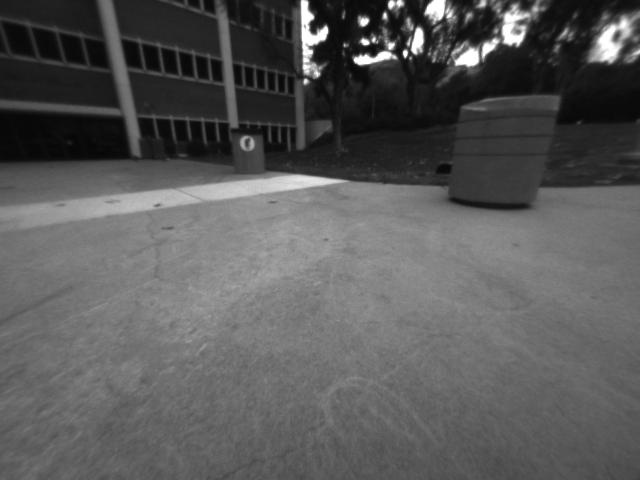trashcan: (452, 91, 565, 207), (226, 126, 276, 180)
